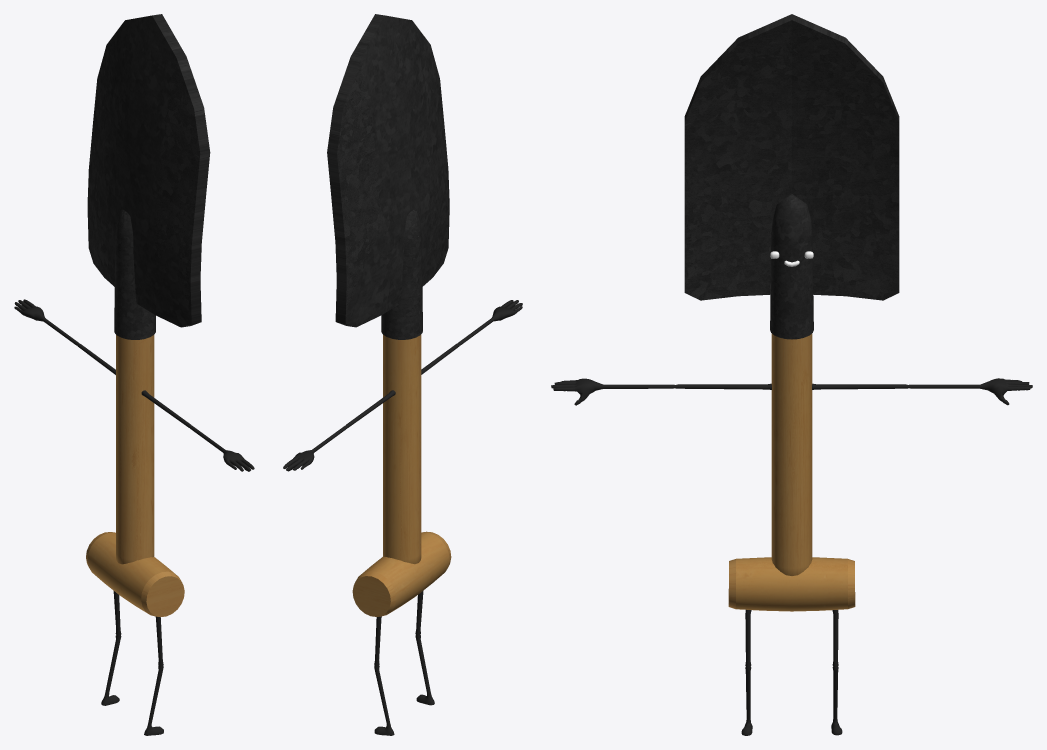
The picture shows the model from 3 angles, left to right: view 1: azimuth 30°, elevation 25°; view 2: azimuth 150°, elevation 25°; view 3: azimuth 270°, elevation 25°; orthographic projection. The views are drawn at different scales.
Parts seen in each view (by area): view 1: _100Avatars_131_CoolShovel; view 2: _100Avatars_131_CoolShovel; view 3: _100Avatars_131_CoolShovel.
Part boxes in pixels (x1,y1,x2,y2): _100Avatars_131_CoolShovel: [14, 14, 254, 735]; _100Avatars_131_CoolShovel: [283, 14, 522, 735]; _100Avatars_131_CoolShovel: [551, 14, 1032, 735].
Size of the model in its own units: 0.3732 by 5.02 by 3.01.
1 material, 1 textured.
